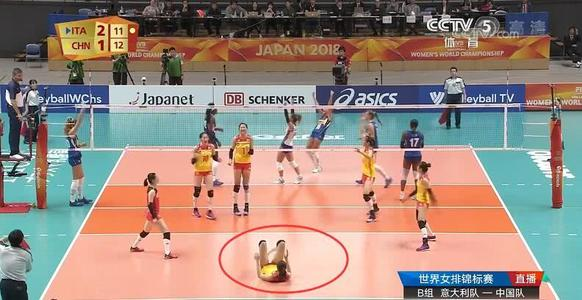10+: (1, 1, 582, 297)
down: (251, 233, 302, 288)
